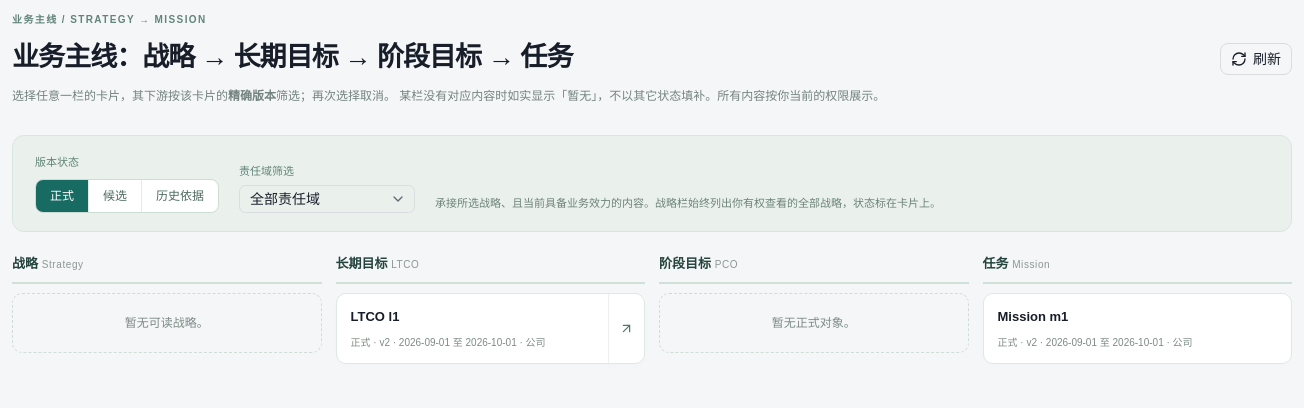
Test: says the Mission lane needs a PCO instead of pretending an LTCO narrowed it
The image size is (1304, 408).
Expected: the text "LTCO l1" is shown, [350,309,399,324]
Click the button with test id "lane-ltco-l1". click: (375, 317)
box: [336,294,606,362]
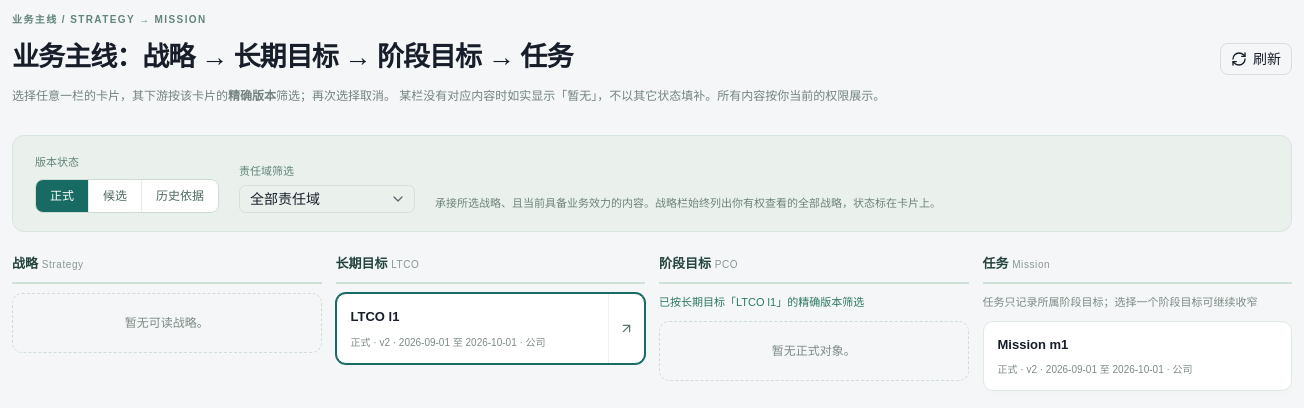
Expected: the text "Mission m1" is shown, [998,337,1068,352]
Expected: the text "任务只记录所属阶段目标；选择一个阶段目标可继续收窄" is shown, [982,293,1292,312]
